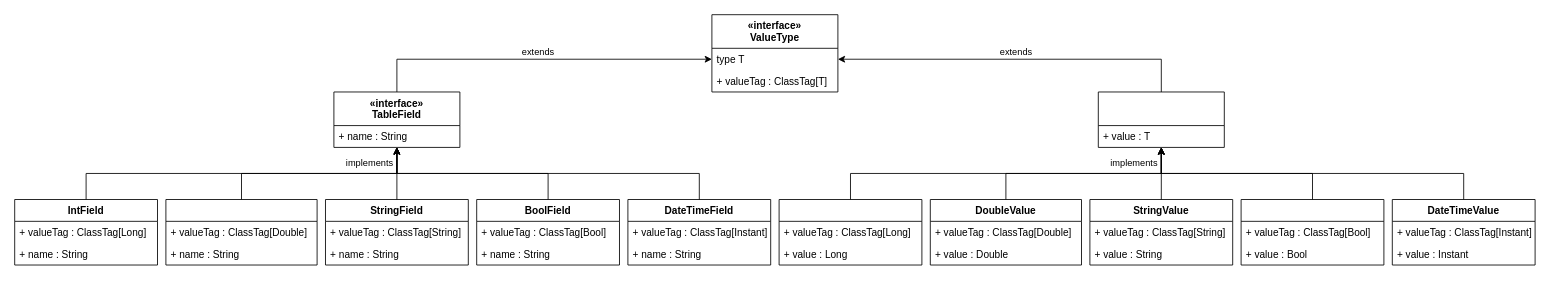
Image size: 1550x282. Some labels were removed from this diagram. Each missing label, with the box of its shape:
BoolValue: (1240, 199, 1384, 265)
DoubleField: (165, 199, 317, 265)
IntValue: (778, 199, 922, 265)
«interface» TableValue: (1097, 91, 1224, 147)
